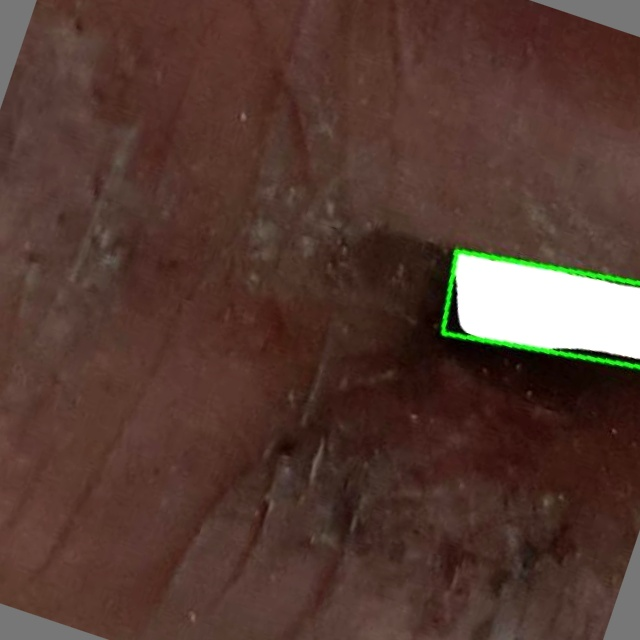Eczema: (442, 250, 639, 366)
